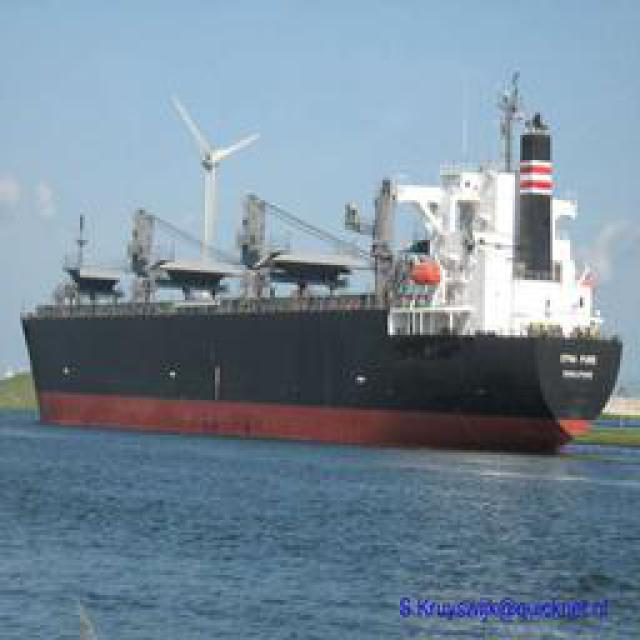Ship: (17, 79, 630, 439)
